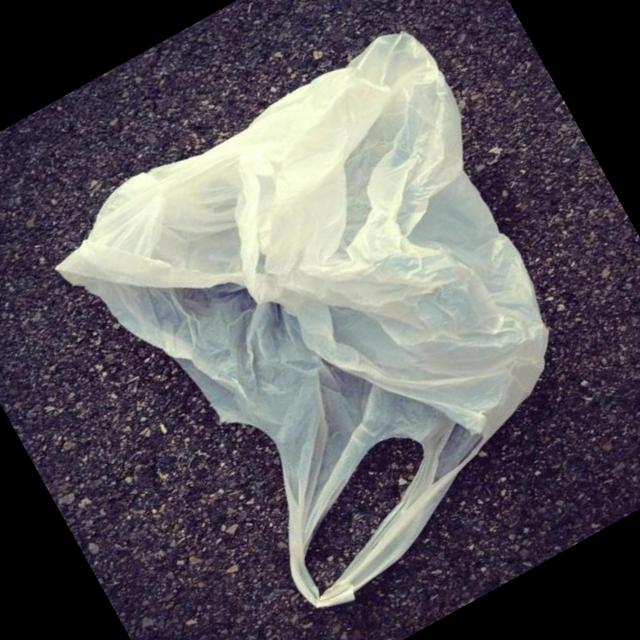KantongPlastik: (31, 14, 640, 640)
